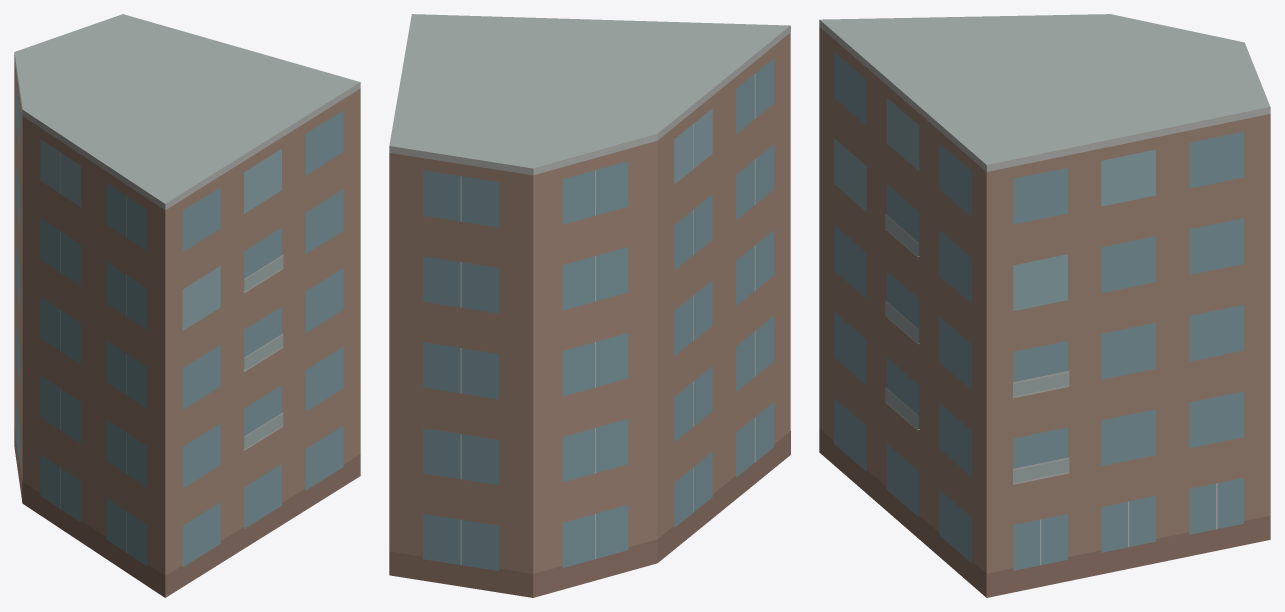
File: residential-8d1a20e1-14bd-46ef-8b34-f0dc211eb19a.glb
3 views of the same model, side by side, from view 1: azimuth 30°, elevation 25°; view 2: azimuth 150°, elevation 25°; view 3: azimuth 270°, elevation 25° (orthographic). The views are drawn at different scales.
Parts seen in each view (by area): view 1: residential-8d1a20e1-14bd-46ef-8b34-f0dc211eb19a.tmp; view 2: residential-8d1a20e1-14bd-46ef-8b34-f0dc211eb19a.tmp; view 3: residential-8d1a20e1-14bd-46ef-8b34-f0dc211eb19a.tmp.
Part boxes in pixels (<box>): residential-8d1a20e1-14bd-46ef-8b34-f0dc211eb19a.tmp: <box>14,14,360,597</box>; residential-8d1a20e1-14bd-46ef-8b34-f0dc211eb19a.tmp: <box>389,14,790,597</box>; residential-8d1a20e1-14bd-46ef-8b34-f0dc211eb19a.tmp: <box>819,14,1270,597</box>.
Bounding box in the file's own units: 11.43 × 15.25 × 14.42.
